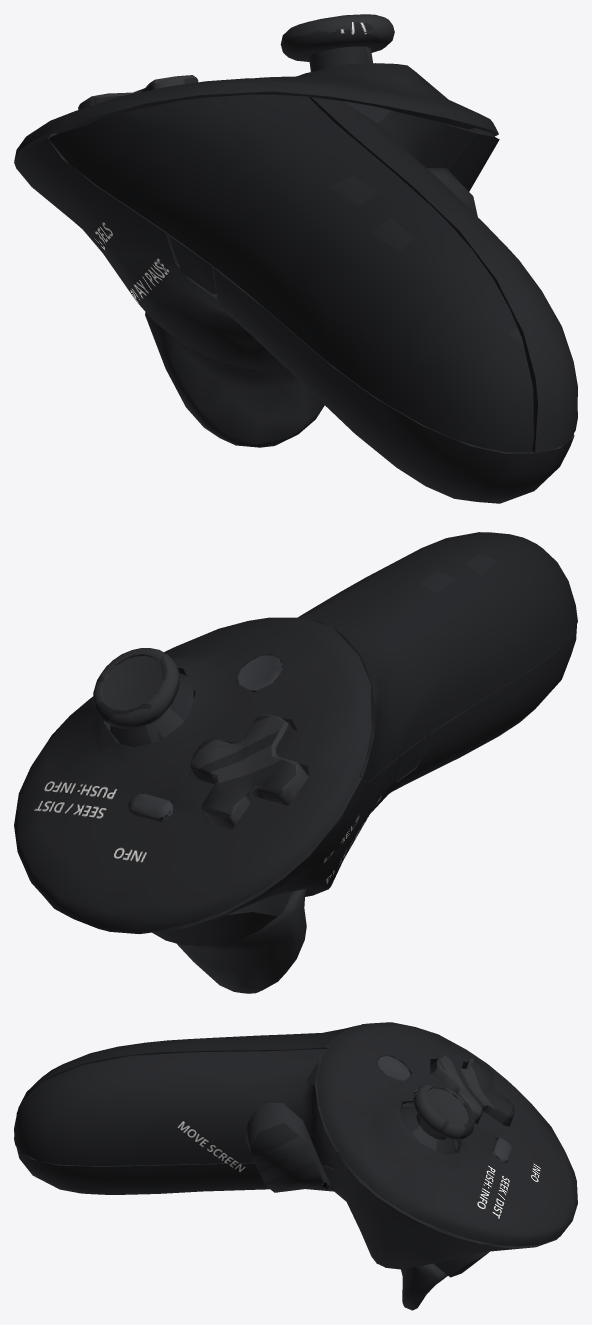
The model's file is left_controller.glb.
3 views of the same model, one above another, from view 1: azimuth 30°, elevation 25°; view 2: azimuth 150°, elevation 25°; view 3: azimuth 270°, elevation 25° (orthographic). The views are drawn at different scales.
Parts seen in each view (by area): view 1: battery_door, body, trigger, thumbstick, dpad, button_grip; view 2: body, battery_door, dpad, thumbstick, trigger, button_system, button_view; view 3: body, button_grip, battery_door, thumbstick, dpad, trigger, button_system, button_view.
Boxes of the visible parts, x1,y1,x2,y2 form: battery_door: (48,94,533,452); body: (14,63,577,503); trigger: (145,312,324,447); thumbstick: (280,14,394,71); dpad: (78,75,198,109); button_grip: (427,168,477,216); body: (14,532,576,945); battery_door: (317,532,577,782); dpad: (190,714,308,829); thumbstick: (93,648,193,747); trigger: (177,889,306,993); button_system: (237,655,282,691); button_view: (128,793,173,821); body: (14,1022,577,1277); button_grip: (247,1103,329,1192); battery_door: (14,1025,359,1133); thumbstick: (400,1083,474,1154); dpad: (430,1055,514,1125); trigger: (377,1260,447,1310); button_system: (377,1056,410,1081); button_view: (491,1137,512,1162).
Bounding box in the file's own units: 0.0715 × 0.0693 × 0.1392.
Materials: 1 (1 with a texture image).
